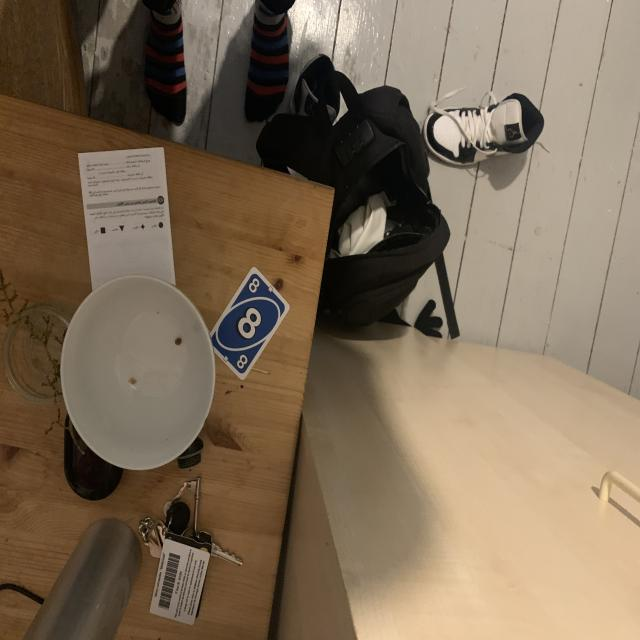lblue-8: (246, 274, 262, 296)
